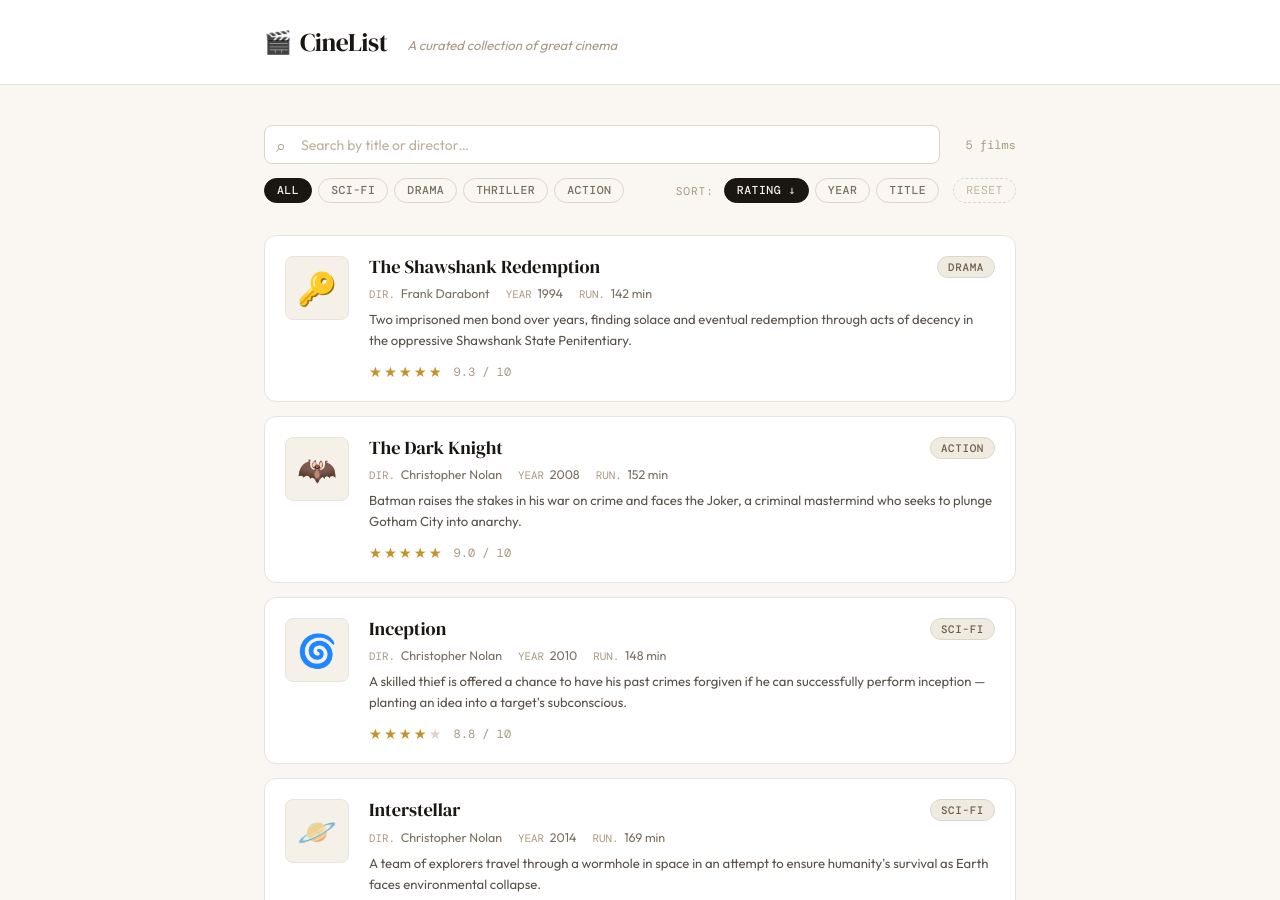
it: App integration › shows empty state when no results found
This screenshot has width=1280, height=900.
Type "zzznomatch" into the search field with placeholder "Search by title or director…". click: (602,145)
box: [264,125,940,164]
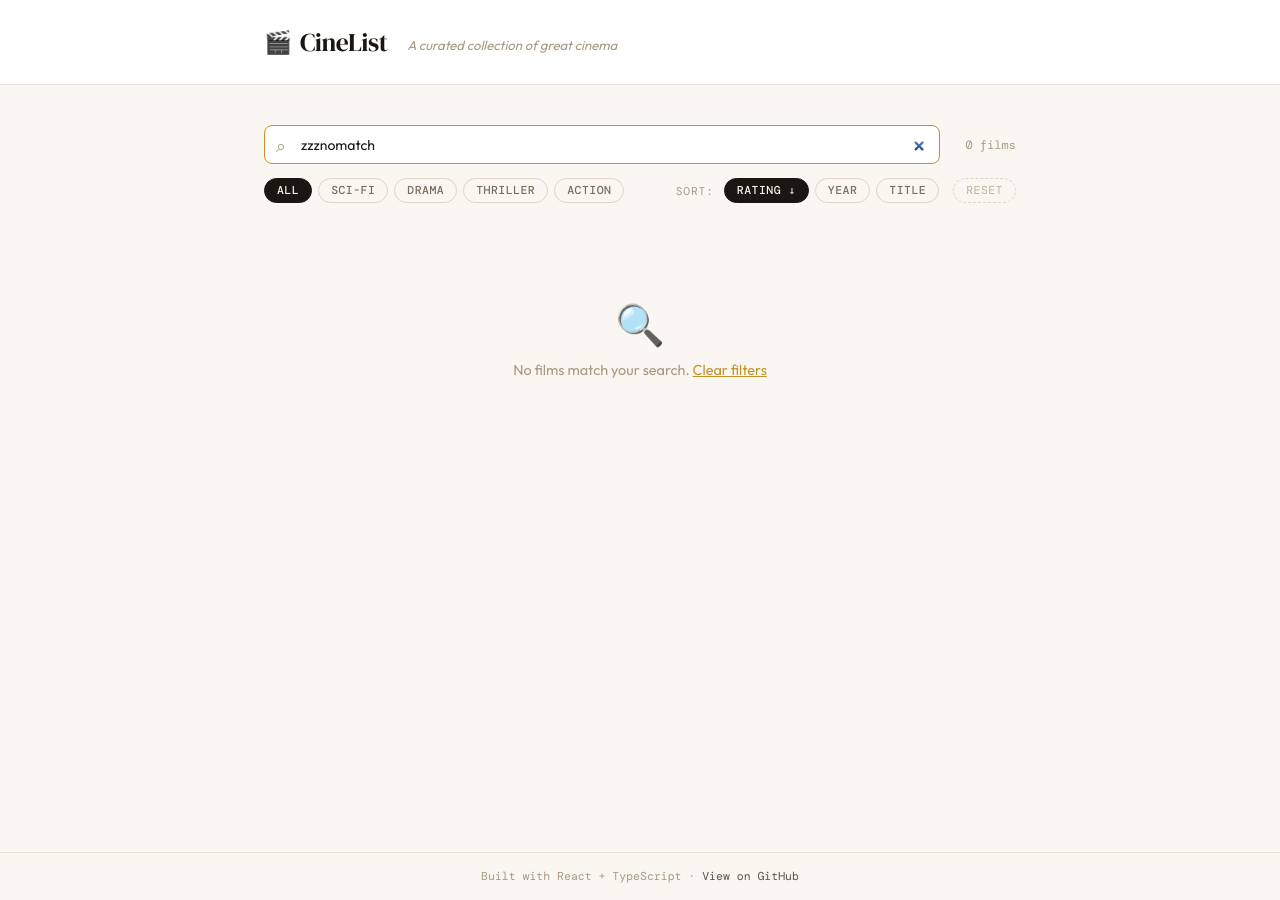
Check: no elements with test id "movie-card" are shown
Check: the message "🔍 No films match your search. Clear filters" is shown, box [513,299,767,379]
